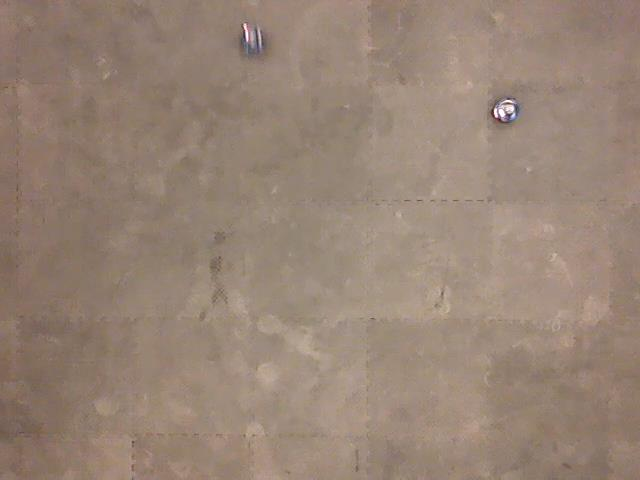Agent: (238, 19, 266, 57), (489, 94, 522, 126)
